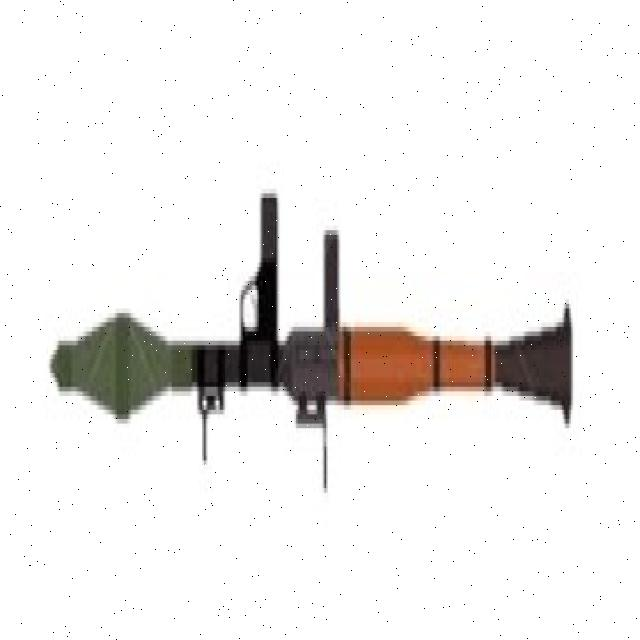bazooka: (46, 174, 579, 504)
